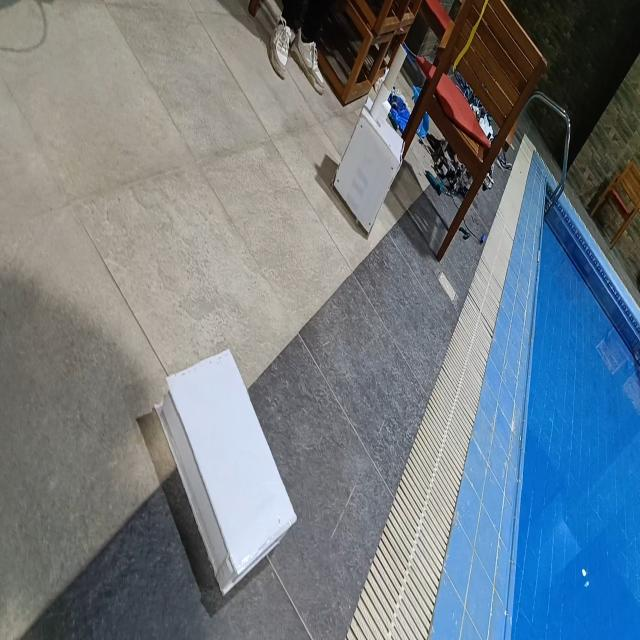Cube: (328, 90, 409, 252)
Cuboid: (153, 346, 297, 596)
